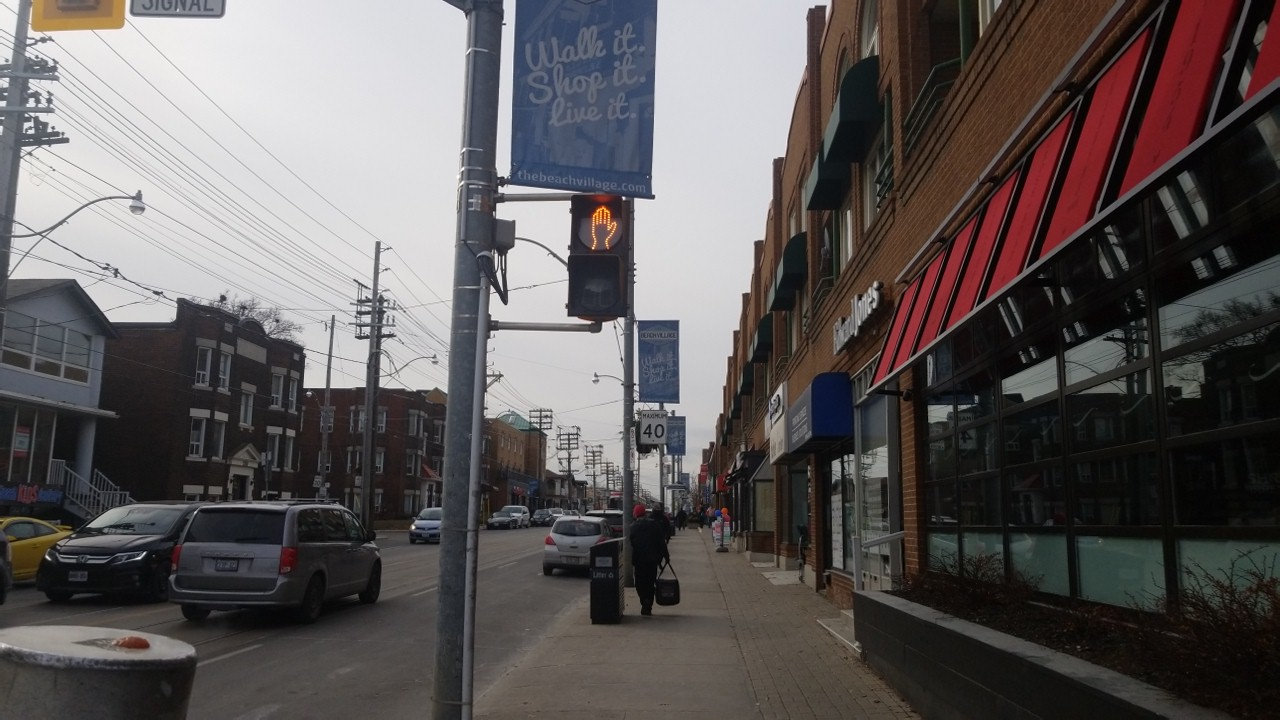light: (562, 185, 638, 321)
